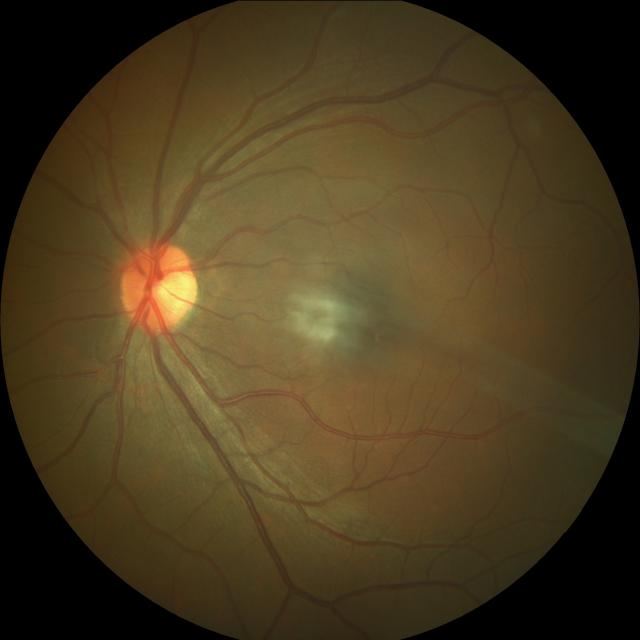OC: (138, 267, 178, 305)
OD: (118, 243, 196, 332)
